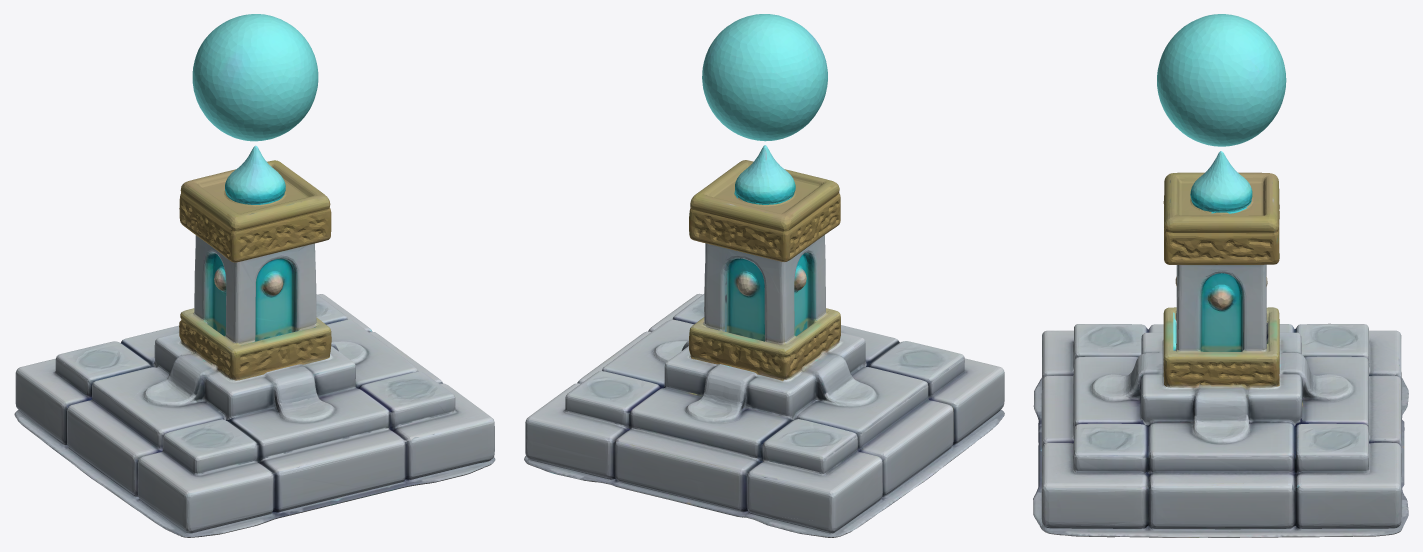
File: nexus_core_dream.glb
3 views of the same model, side by side, from view 1: azimuth 30°, elevation 25°; view 2: azimuth 150°, elevation 25°; view 3: azimuth 270°, elevation 25° (orthographic). The views are drawn at different scales.
Parts seen in each view (by area): view 1: tmpai_vb522.ply; view 2: tmpai_vb522.ply; view 3: tmpai_vb522.ply.
Boxes of the visible parts, x1=… form: tmpai_vb522.ply: x1=14, y1=14, x2=495, y2=537; tmpai_vb522.ply: x1=524, y1=14, x2=1004, y2=537; tmpai_vb522.ply: x1=1033, y1=14, x2=1408, y2=537.
Bounding box in the file's own units: 1.64 × 1.99 × 1.56.
1 material, 1 textured.
